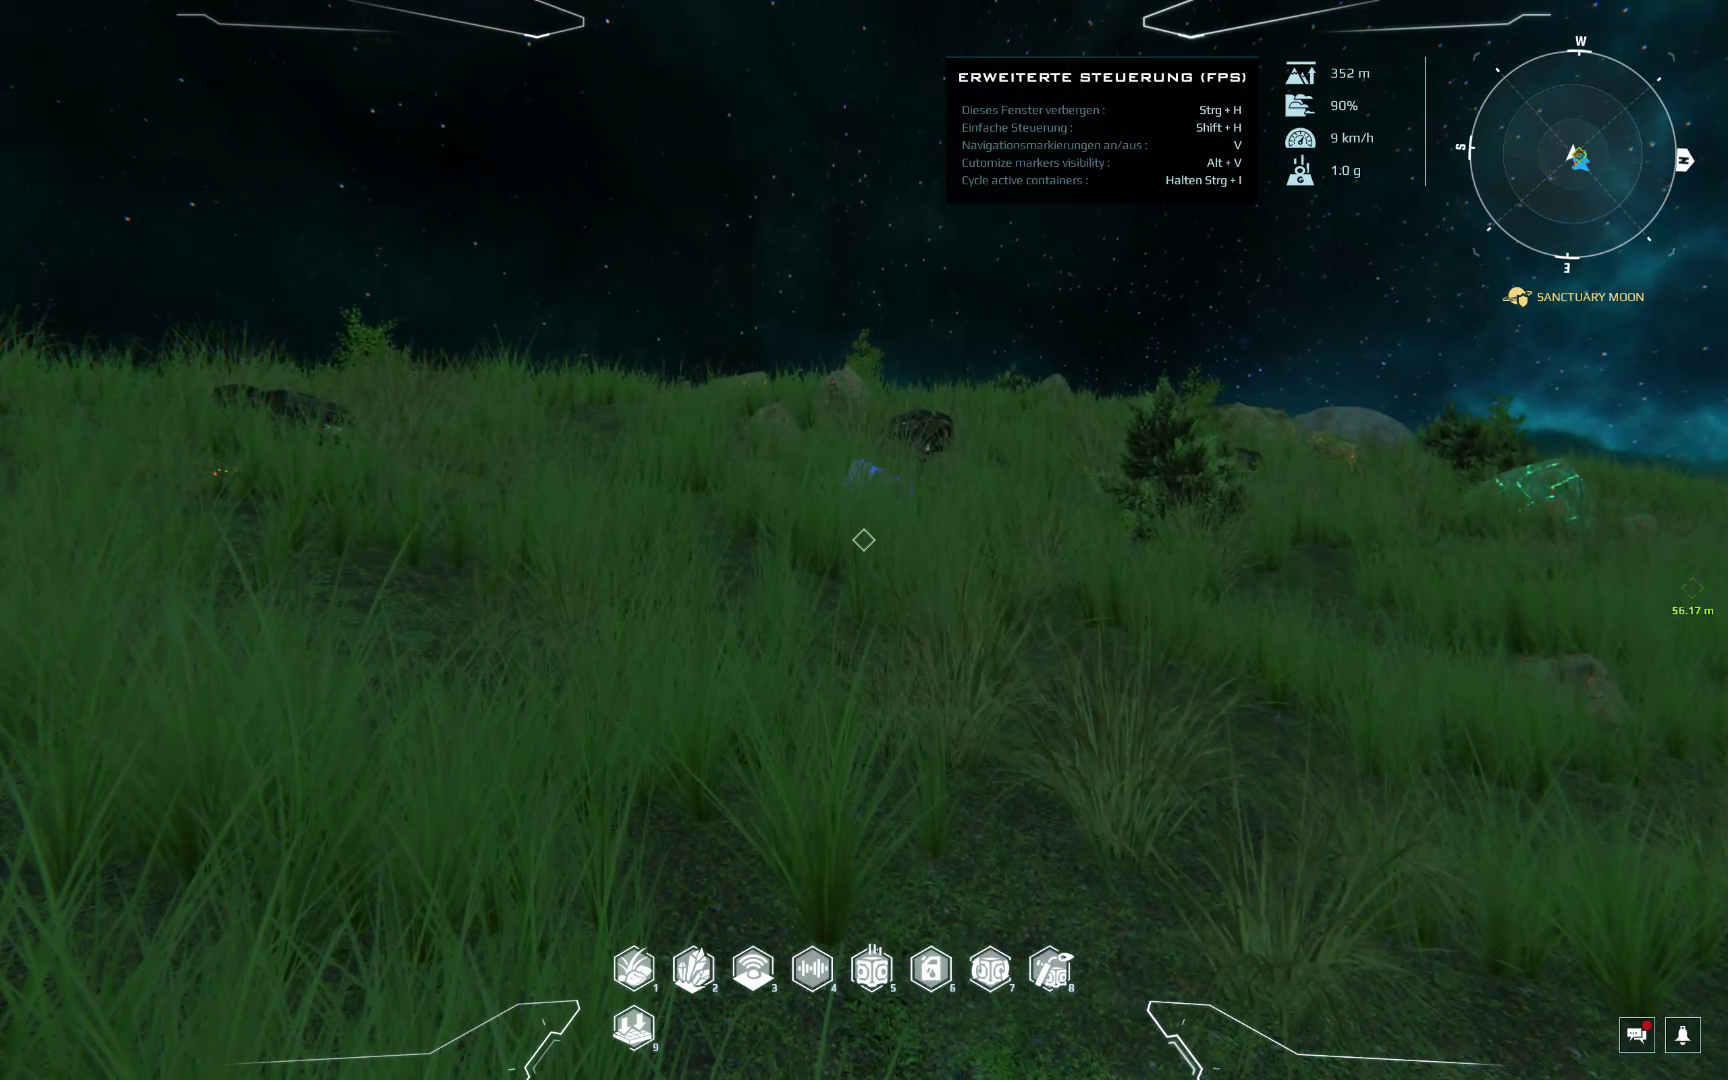Ore: (1500, 633, 1643, 735), (1466, 455, 1597, 538), (209, 379, 360, 449), (814, 366, 870, 427), (883, 411, 952, 457), (741, 401, 802, 447), (1300, 428, 1359, 472), (843, 454, 892, 496), (192, 455, 246, 490), (704, 367, 773, 394), (1616, 506, 1662, 544)
